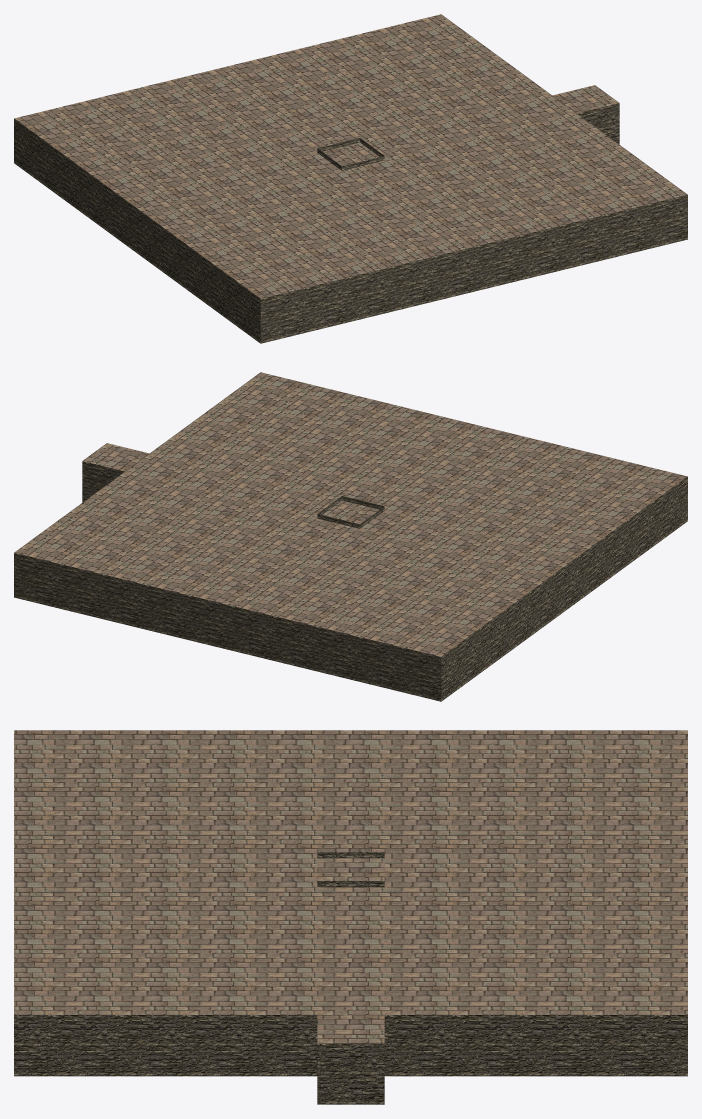
File: map04.FBX
3 views of the same model, one above another, from view 1: azimuth 30°, elevation 25°; view 2: azimuth 150°, elevation 25°; view 3: azimuth 270°, elevation 25° (orthographic). The views are drawn at different scales.
Visible parts, largest first — view 1: map04; view 2: map04; view 3: map04.
Part boxes in pixels (x1,y1,x2,y2): map04: (14,14,687,343); map04: (14,372,687,701); map04: (14,730,687,1104).
Size of the model in its own units: 220 by 200 by 22.
